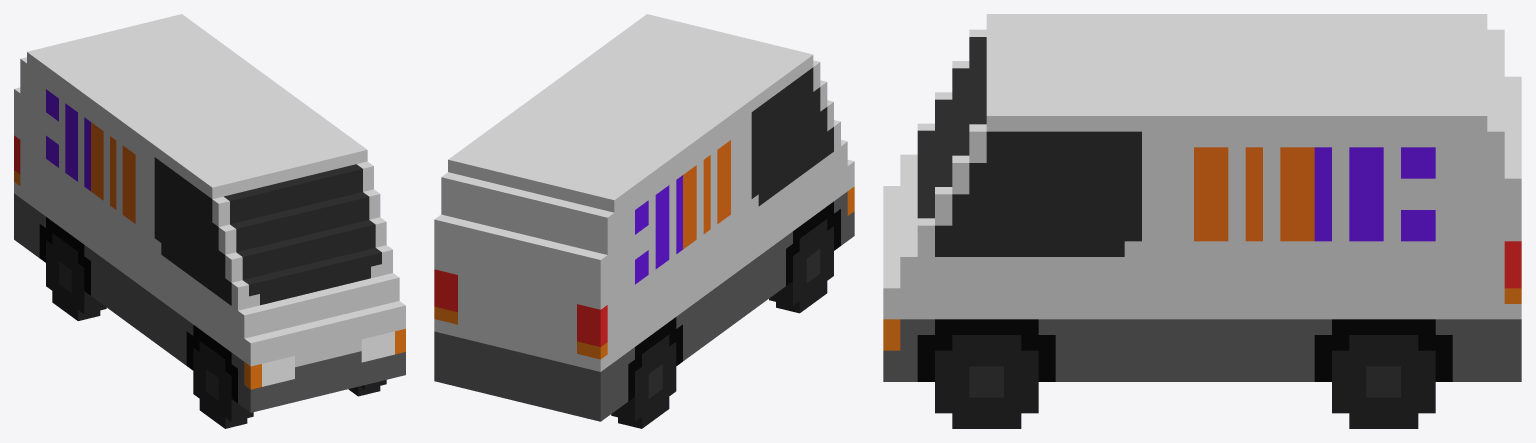
The model's file is kit-voxel-vans-van-style5-white-purple-red.glb.
The picture shows the model from 3 angles, left to right: view 1: azimuth 30°, elevation 25°; view 2: azimuth 150°, elevation 25°; view 3: azimuth 270°, elevation 25°; orthographic projection. The views are drawn at different scales.
Visible parts, largest first — view 1: geometry_1; view 2: geometry_1; view 3: geometry_1.
Part boxes in pixels (x1,y1,x2,y2): geometry_1: (14, 14, 405, 428); geometry_1: (434, 14, 854, 428); geometry_1: (883, 14, 1521, 428).
Size of the model in its own units: 1.4 by 2 by 3.7.
Materials: 1 (1 with a texture image).
